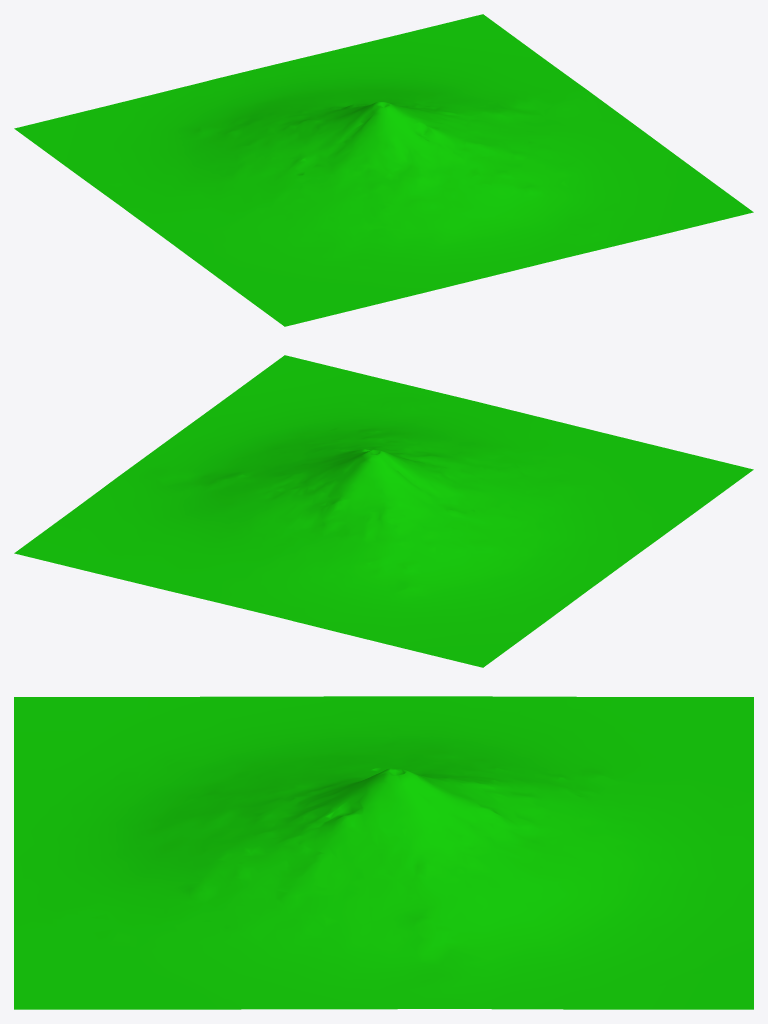
The model's file is MtFuji.obj.
The picture shows the model from 3 angles, top to bottom: view 1: azimuth 30°, elevation 25°; view 2: azimuth 150°, elevation 25°; view 3: azimuth 270°, elevation 25°; orthographic projection. The views are drawn at different scales.
Visible parts, largest first — view 1: Mt.Fuji_low_平面.002; view 2: Mt.Fuji_low_平面.002; view 3: Mt.Fuji_low_平面.002.
Boxes of the visible parts, x1,y1,x2,y2 form: Mt.Fuji_low_平面.002: (14,14,753,326); Mt.Fuji_low_平面.002: (14,355,753,667); Mt.Fuji_low_平面.002: (14,696,753,1009).
Size of the model in its own units: 20 by 2.51 by 20.
